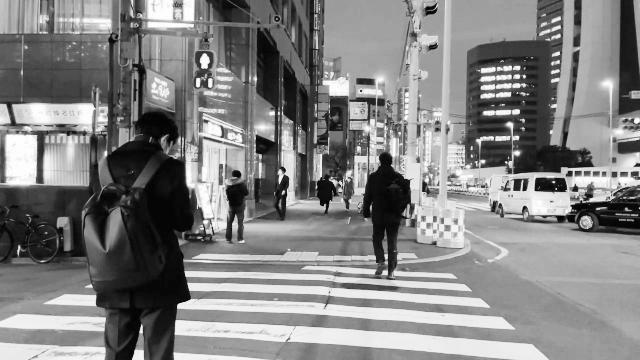berdiri: (82, 112, 190, 354), (224, 162, 254, 246)
berjalan: (364, 148, 411, 282)
